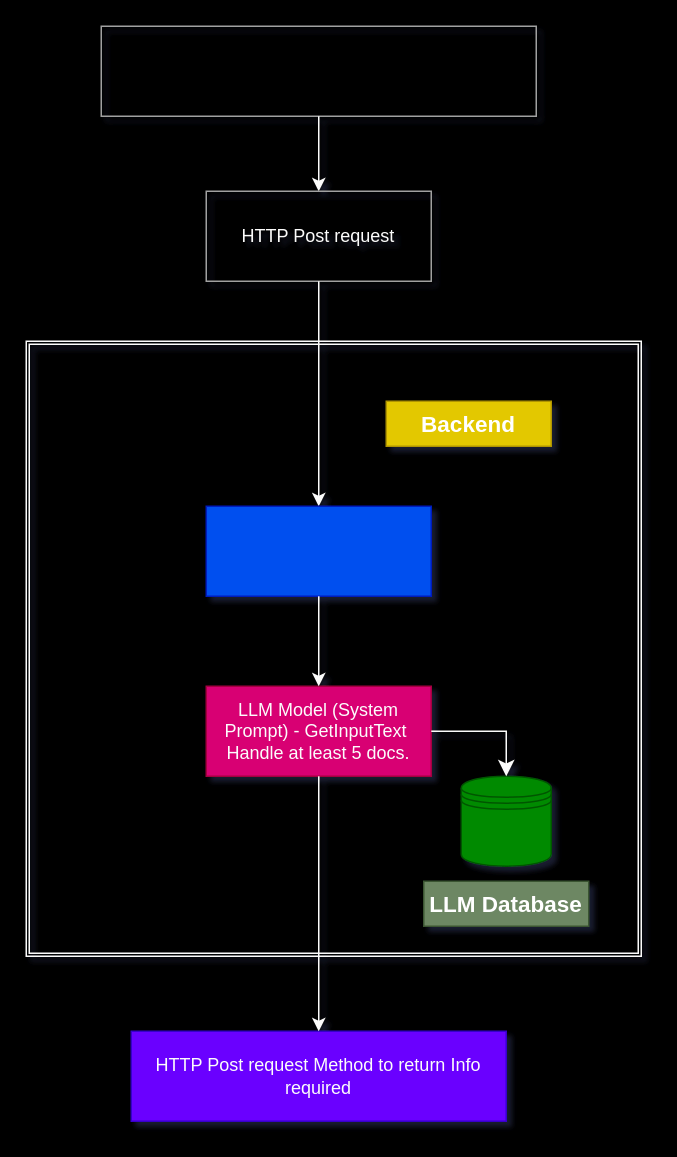
Image size: 677x1157. Some labels were removed from this diagram. The shapes that lost their labels are listed below. From the top down, each one's centre as x and y in pixels, then its label:
At pixel 318 70: "Frontend - UserInput ()".
At pixel 318 550: "Python Server".
